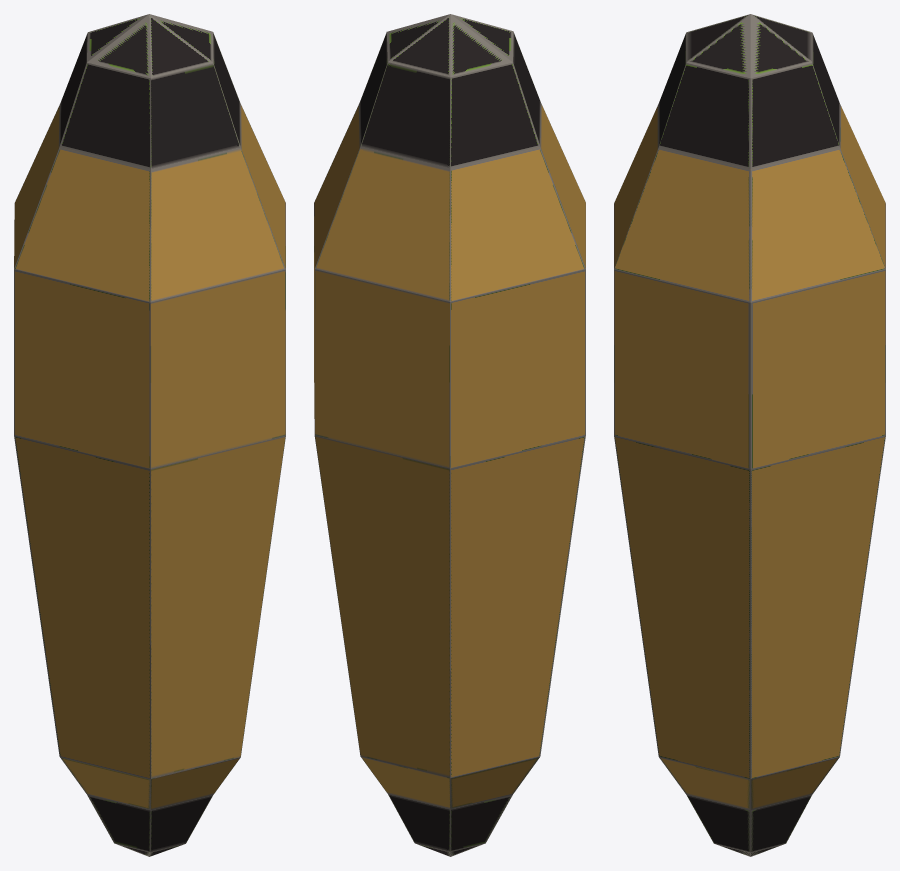
Rendered from RArmUnder.fbx.
The picture shows the model from 3 angles, left to right: view 1: azimuth 30°, elevation 25°; view 2: azimuth 150°, elevation 25°; view 3: azimuth 270°, elevation 25°; orthographic projection.
Visible parts, largest first — view 1: Shape_IndexedFaceSet.042, Shape_IndexedFaceSet.041; view 2: Shape_IndexedFaceSet.042, Shape_IndexedFaceSet.041; view 3: Shape_IndexedFaceSet.042, Shape_IndexedFaceSet.041.
Part boxes in pixels (<box>): Shape_IndexedFaceSet.042: <box>14,103,285,810</box>; Shape_IndexedFaceSet.041: <box>59,14,240,856</box>; Shape_IndexedFaceSet.042: <box>314,103,585,809</box>; Shape_IndexedFaceSet.041: <box>359,14,540,856</box>; Shape_IndexedFaceSet.042: <box>614,104,885,810</box>; Shape_IndexedFaceSet.041: <box>658,14,839,856</box>.
Bounding box in the file's own units: 0.0911 × 0.2699 × 0.0789.
